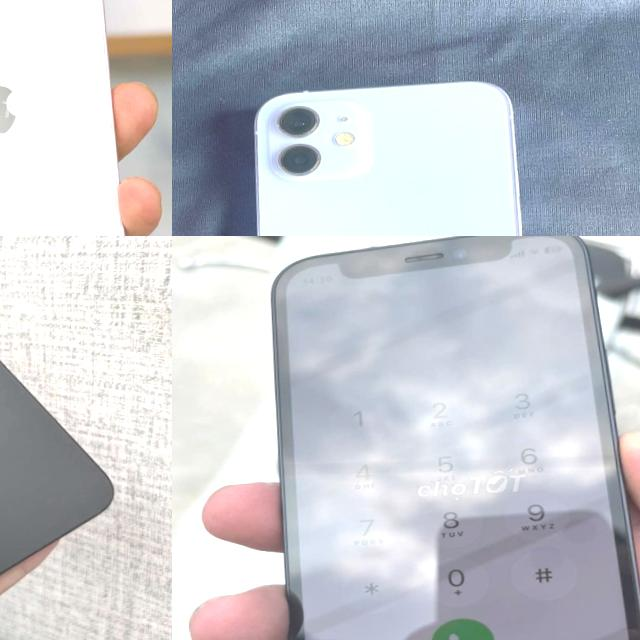gen_12_13: (259, 236, 640, 640), (243, 76, 552, 236), (0, 0, 152, 236)
gen_15: (0, 236, 140, 604)
